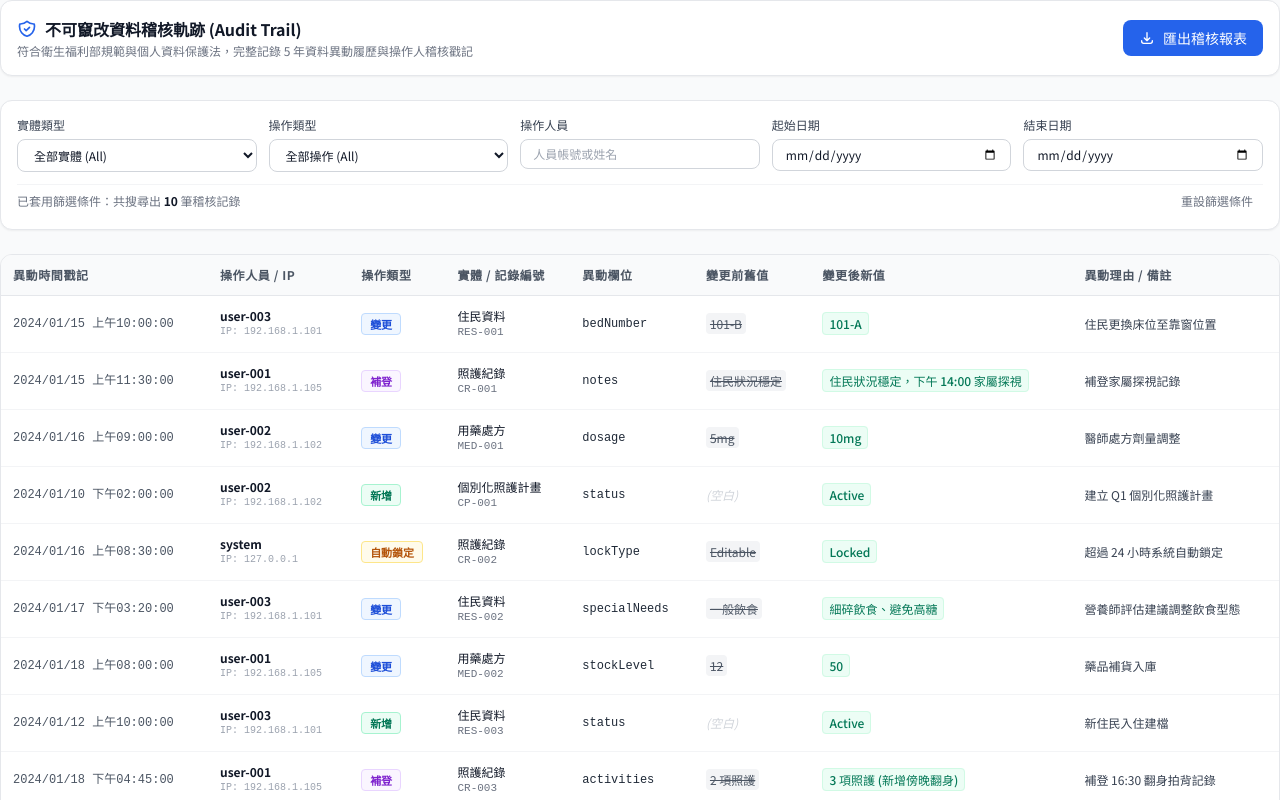
Test case: AuditTrailView Integration Tests › filters audit trail entries by entity type
Select "用藥處方 (Medication)" in the dropdown labelled "實體類型": (137, 156) [17,139,257,172]
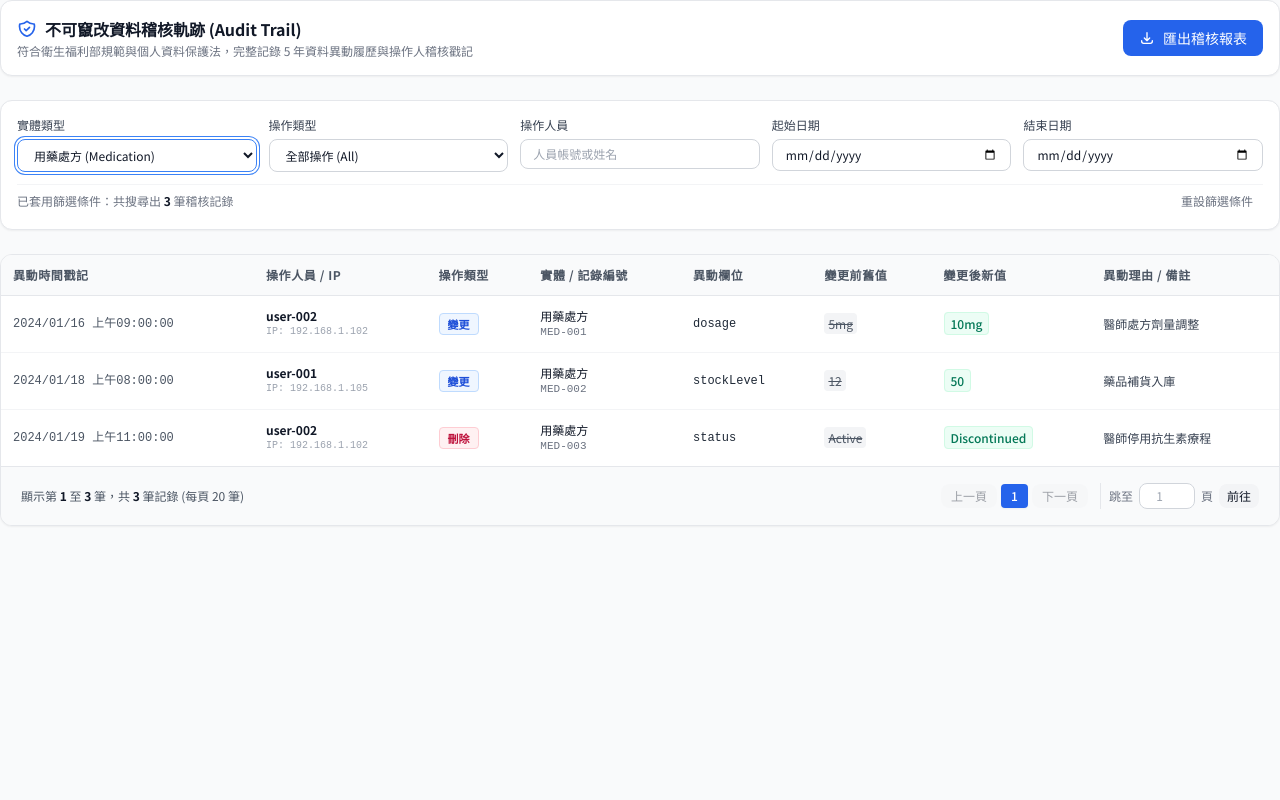
Expected: the 1st text "用藥處方" is shown, [540,307,588,324]
Now the text "個別化照護計畫" is gone
